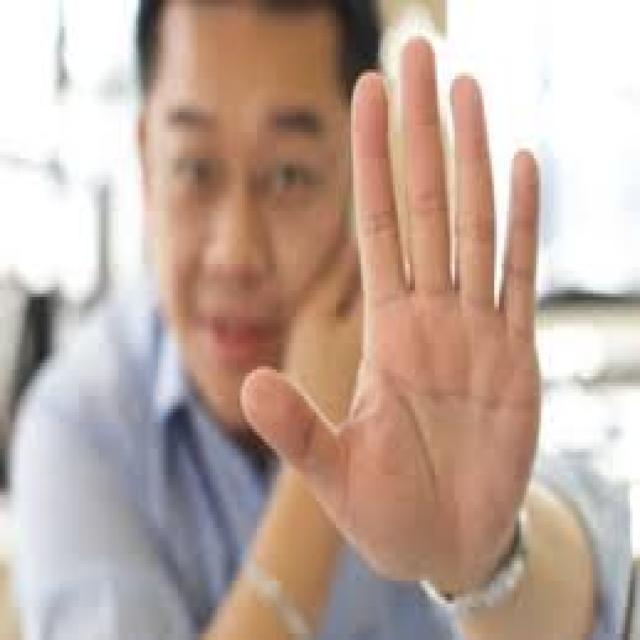no-gloves: (232, 20, 560, 626)
